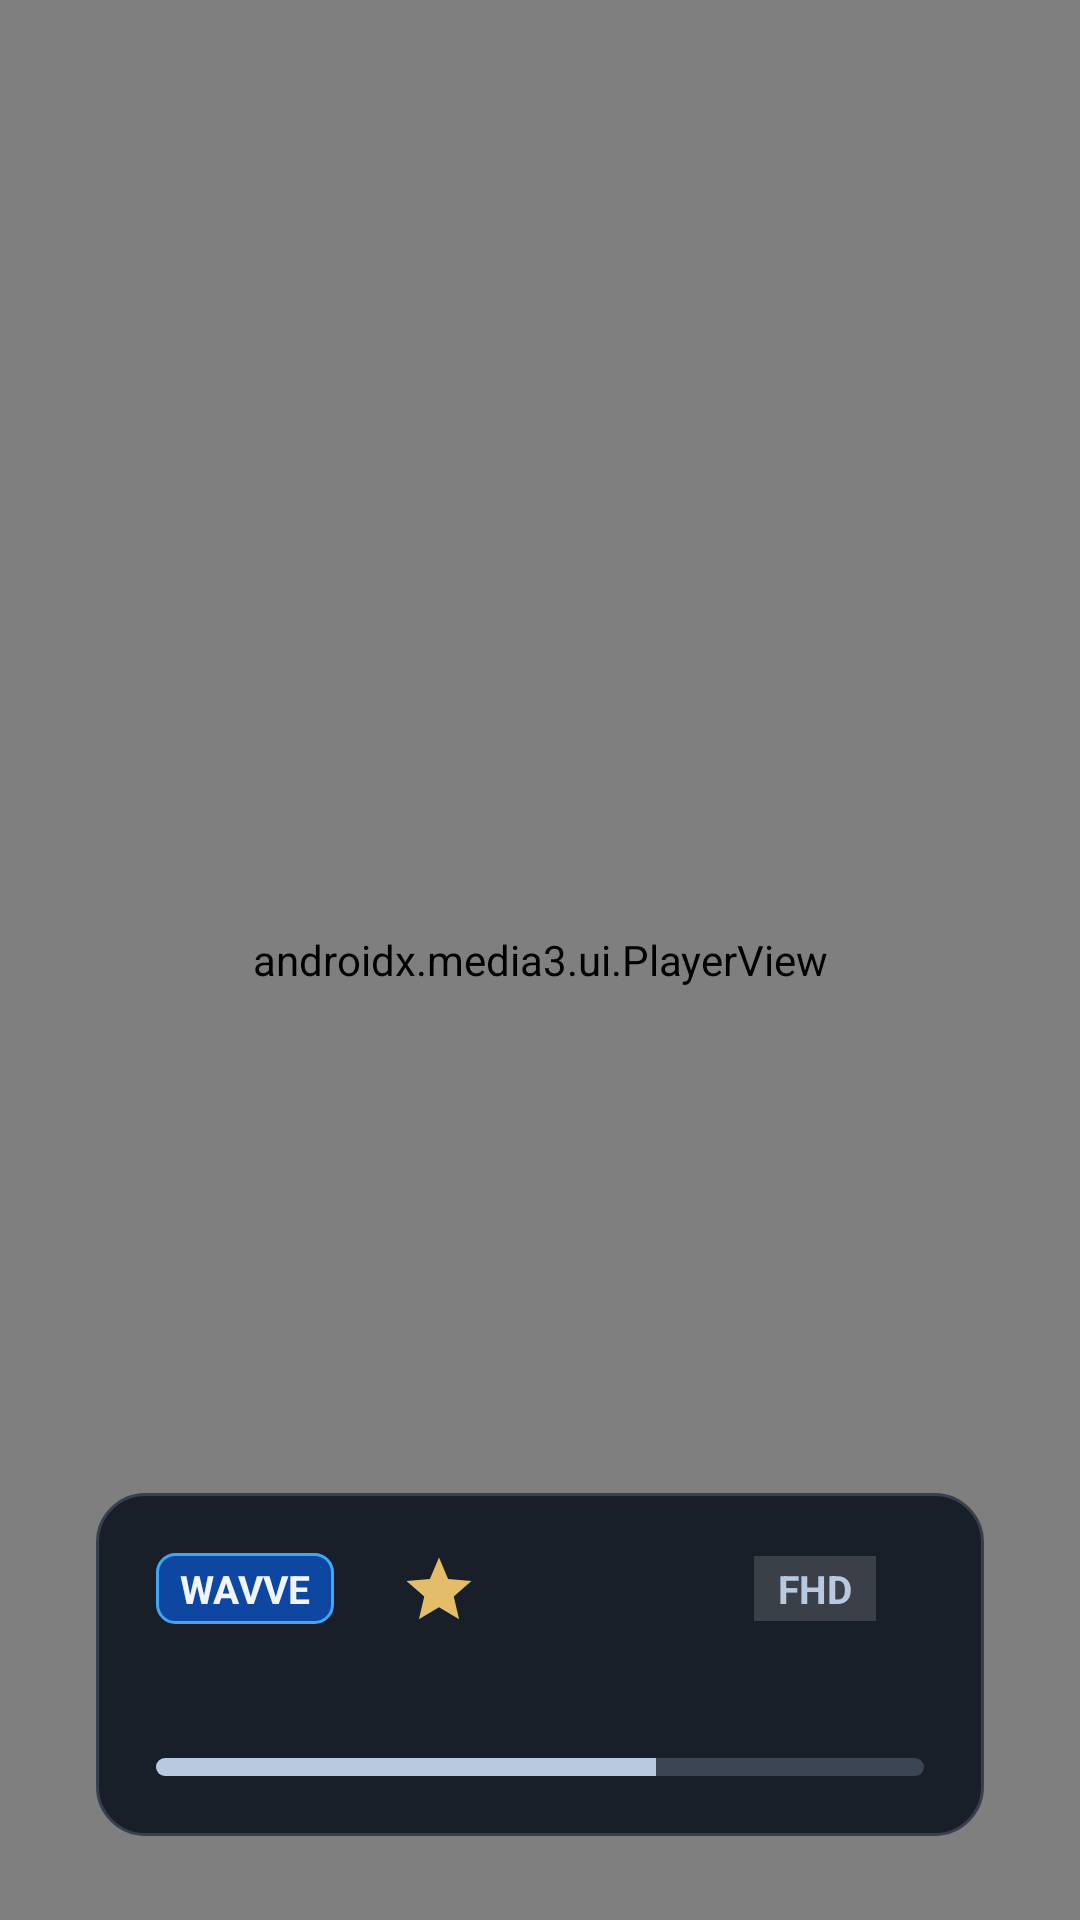

Icon bounding boxes for this 1080x1920 phone screenshot, format (x1, y1, x2, y2):
star gold: (407, 1558, 471, 1619)
